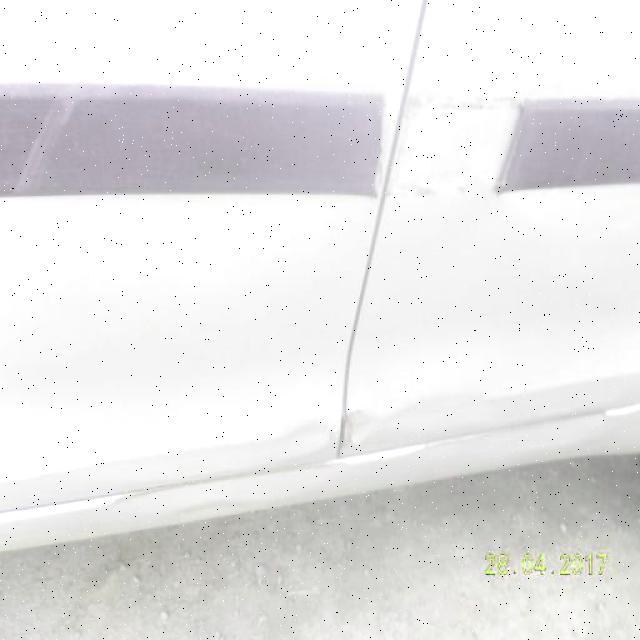car damage: (350, 396, 481, 445), (280, 419, 332, 462)
